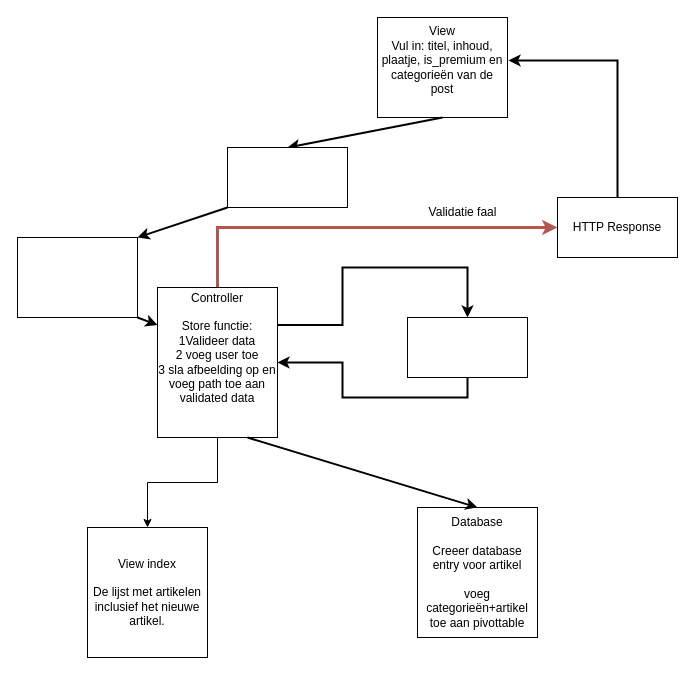
Some shapes in this 695 by 675 pixel diagram are drawn without their labels. Each missing label, with the centre of its shape:
HTTP Request Stuur Post request: point (287, 177)
Model Valideer data: point (467, 347)
Route route naar de store functie van de article controller: point (77, 277)
